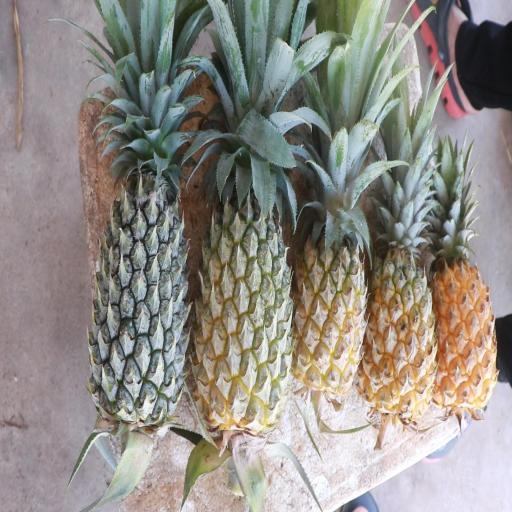------------------------------: (199, 121, 292, 424)
Pineapple - v8 v1: (300, 177, 372, 391), (372, 210, 433, 414), (434, 228, 500, 407)
